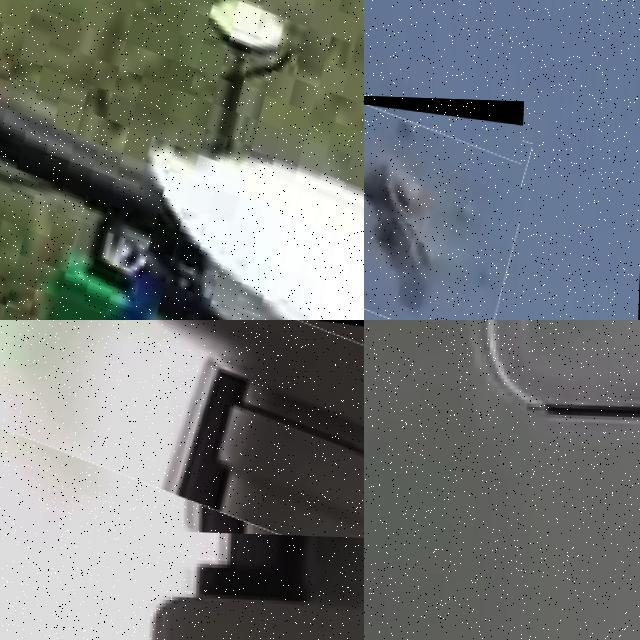0: (0, 0, 364, 320)
drone: (0, 320, 364, 545), (364, 92, 523, 320)
